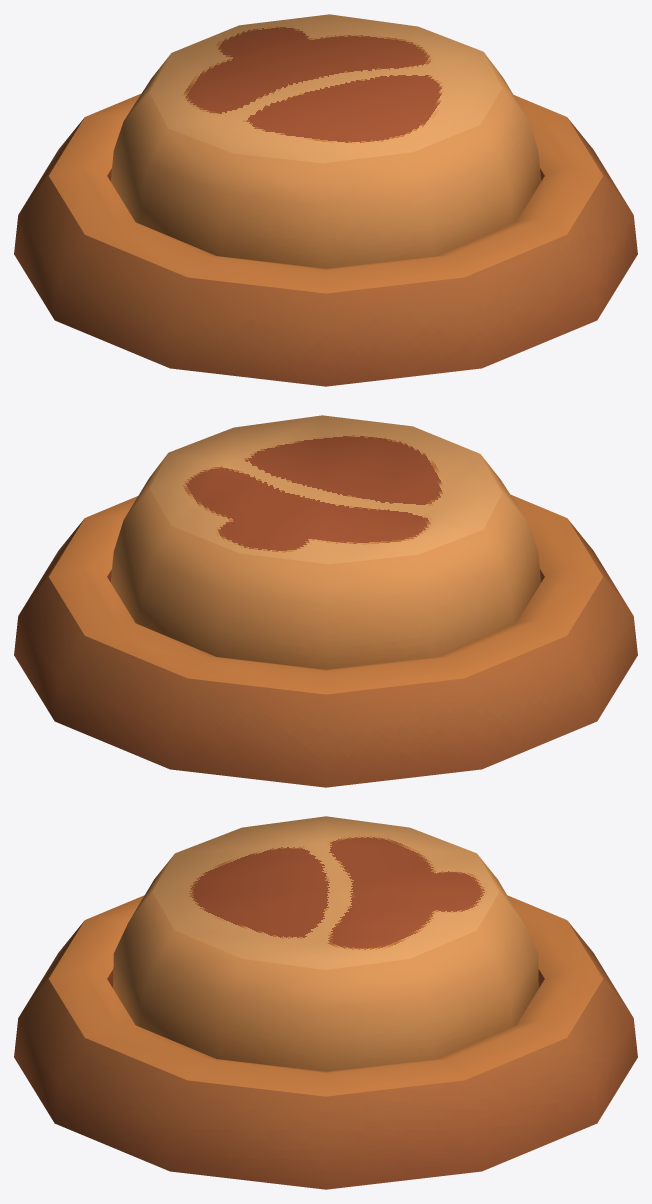
The model's file is acorn_button.gltf.
The picture shows the model from 3 angles, top to bottom: view 1: azimuth 30°, elevation 25°; view 2: azimuth 150°, elevation 25°; view 3: azimuth 270°, elevation 25°; orthographic projection.
Visible parts, largest first — view 1: AcornButton, Button; view 2: AcornButton, Button; view 3: AcornButton, Button.
Boxes of the visible parts, left/top/right/bottom form: AcornButton: left=14, top=93, right=637, bottom=386; Button: left=110, top=14, right=541, bottom=268; AcornButton: left=14, top=494, right=637, bottom=787; Button: left=110, top=415, right=541, bottom=669; AcornButton: left=14, top=895, right=637, bottom=1189; Button: left=113, top=816, right=538, bottom=1071.
Bounding box in the file's own units: 0.9878 × 0.3133 × 0.9838.
Materials: 1 (1 with a texture image).
